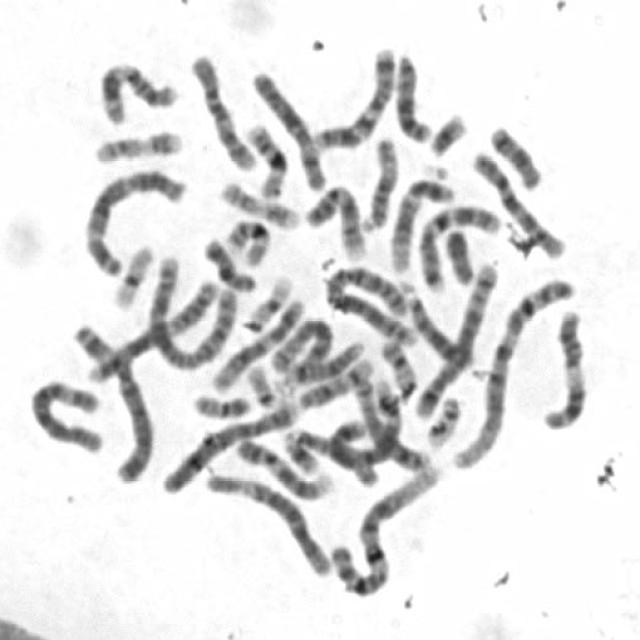A1: (445, 272, 580, 472), (325, 457, 444, 598)
A2: (144, 249, 241, 372), (322, 258, 420, 351)
A3: (80, 272, 224, 384), (78, 162, 191, 278)
B4: (66, 316, 157, 487), (158, 395, 303, 496)
B5: (410, 255, 502, 421), (306, 372, 406, 473)
C10: (467, 144, 568, 261), (186, 47, 258, 172)
C11: (537, 301, 590, 432), (94, 54, 182, 126)
C12: (206, 292, 309, 395), (384, 170, 456, 274)
C6: (200, 465, 335, 580), (25, 372, 108, 454)
C7: (306, 39, 398, 152), (414, 198, 506, 293)
C8: (351, 374, 433, 472), (266, 312, 338, 375)
C9: (231, 432, 335, 502), (298, 176, 370, 261)
D13: (398, 281, 479, 375), (390, 46, 434, 144)
D14: (272, 333, 366, 390), (291, 352, 375, 412)
D15: (291, 426, 384, 491), (358, 130, 402, 232)
E16: (240, 116, 290, 200), (221, 211, 272, 268)
E17: (216, 174, 302, 232), (89, 122, 187, 166)
E18: (484, 117, 544, 191), (198, 231, 258, 293)
F19: (238, 268, 295, 334), (107, 238, 157, 311)
F20: (375, 332, 419, 403), (187, 386, 253, 419)
G21: (424, 105, 469, 159), (278, 425, 322, 476)
G22: (422, 390, 464, 450), (242, 358, 286, 412)
X: (246, 62, 330, 192)
Y: (439, 224, 477, 286)
